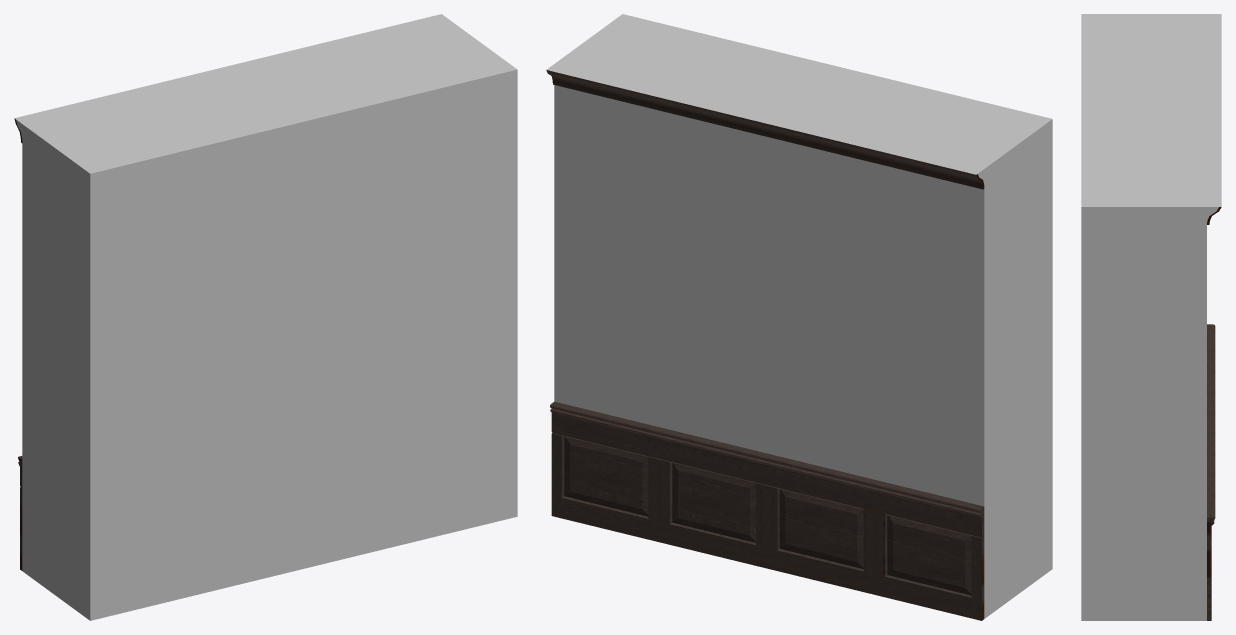
The model's file is wall-panelling-1.fbx.
3 renders of one model, left to right at view 1: azimuth 30°, elevation 25°; view 2: azimuth 150°, elevation 25°; view 3: azimuth 270°, elevation 25°, orthographic. The views are drawn at different scales.
Visible parts, largest first — view 1: wall-panelling; view 2: wall-panelling; view 3: wall-panelling.
Boxes of the visible parts, left/top/right/bottom form: wall-panelling: left=14, top=14, right=517, bottom=620; wall-panelling: left=546, top=14, right=1052, bottom=620; wall-panelling: left=1081, top=14, right=1221, bottom=620.
Bounding box in the file's own units: 123 × 400 × 400.
